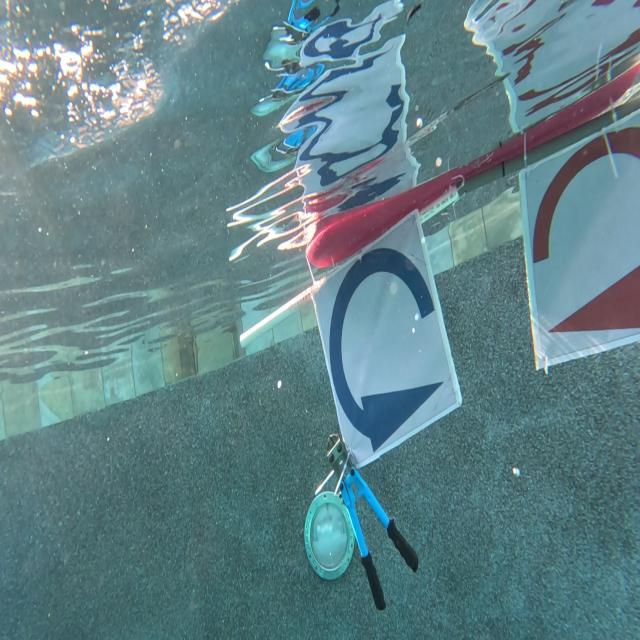blue_side: (326, 240, 448, 457)
red_side: (525, 116, 640, 356)
